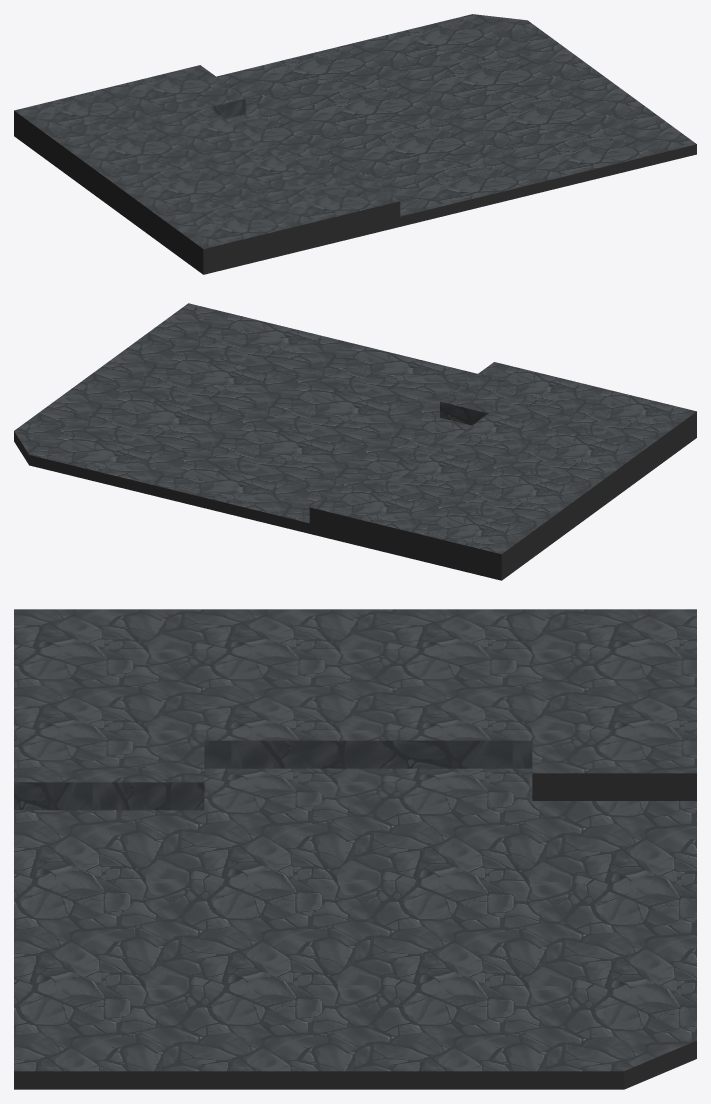
File: Floor.fbx
3 renders of one model, top to bottom at view 1: azimuth 30°, elevation 25°; view 2: azimuth 150°, elevation 25°; view 3: azimuth 270°, elevation 25°, orthographic. The views are drawn at different scales.
Visible parts, largest first — view 1: 1_Floor; view 2: 1_Floor; view 3: 1_Floor.
Part boxes in pixels (x1=…): 1_Floor: x1=14, y1=14, x2=696, y2=274; 1_Floor: x1=14, y1=303, x2=696, y2=580; 1_Floor: x1=14, y1=609, x2=696, y2=1089.
Size of the model in its own units: 1406 by 70 by 935.
